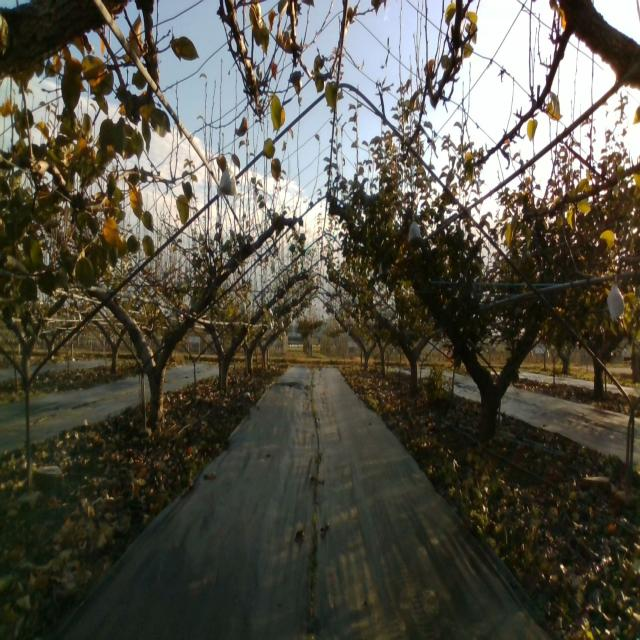pearbags: (607, 282, 626, 322), (217, 161, 238, 196), (408, 214, 422, 243)
